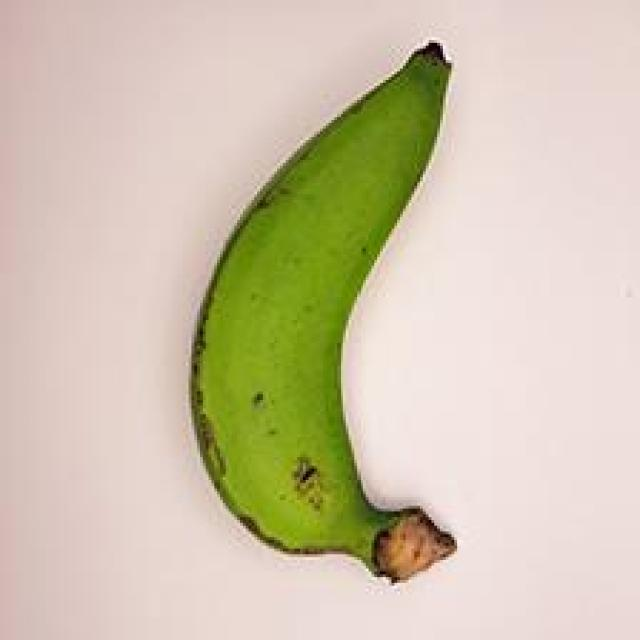Raw: (165, 26, 485, 607)
